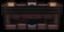Hide: (1, 0, 64, 32)
